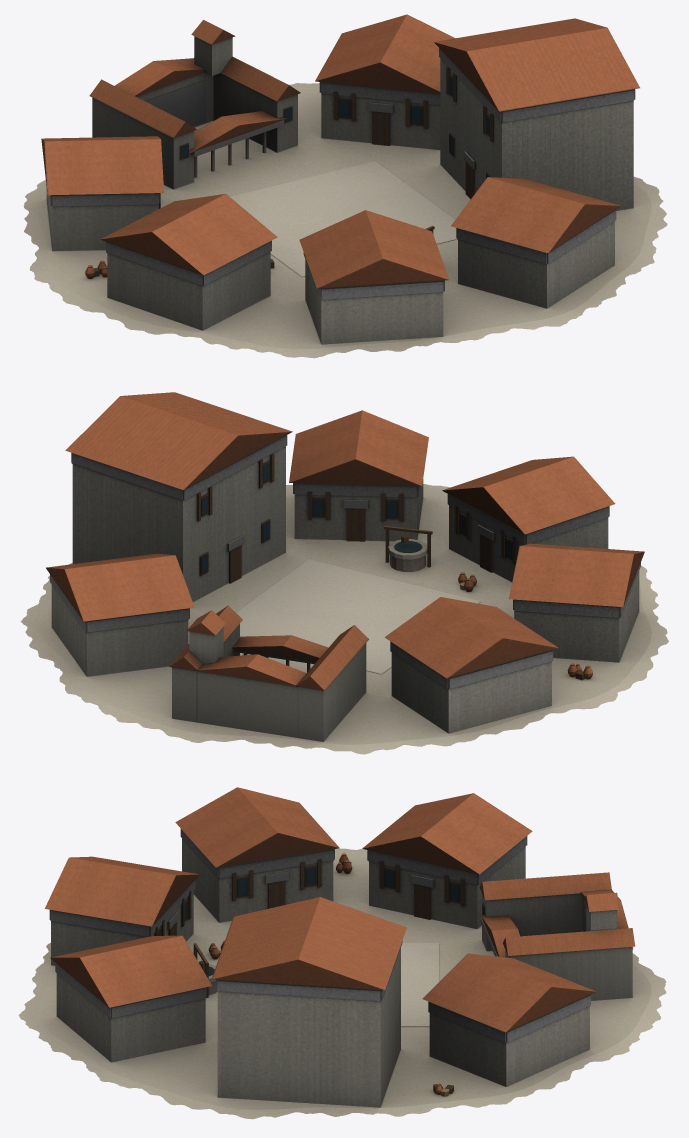
Rendered from gunpowder-town-small-b-americas.glb.
The picture shows the model from 3 angles, top to bottom: view 1: azimuth 30°, elevation 25°; view 2: azimuth 150°, elevation 25°; view 3: azimuth 270°, elevation 25°; orthographic projection.
Visible parts, largest first — view 1: LOD0; view 2: LOD0; view 3: LOD0.
Part boxes in pixels (x1,y1,x2,y2): LOD0: (23, 14, 667, 358); LOD0: (20, 392, 668, 754); LOD0: (18, 787, 666, 1119).
Size of what is drawn, in the model's own units: 3.98 by 1 by 4.01.
Materials: 3 (3 with a texture image).
